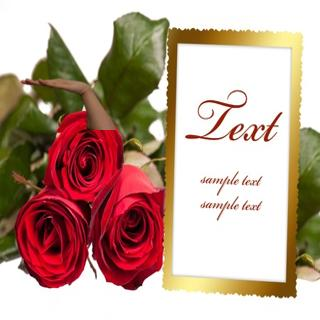WAIT: (16, 70, 88, 96)
